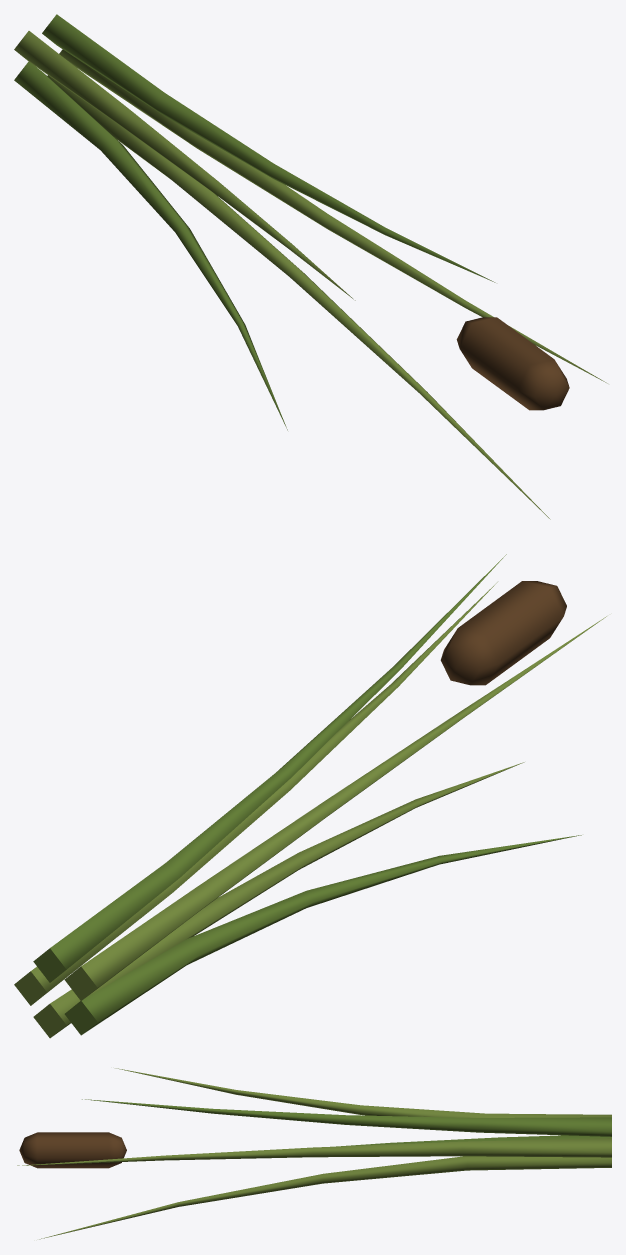
File: reed.glb
3 renders of one model, top to bottom at view 1: azimuth 30°, elevation 25°; view 2: azimuth 150°, elevation 25°; view 3: azimuth 270°, elevation 25°, orthographic. The views are drawn at different scales.
Visible parts, largest first — view 1: ReedMesh; view 2: ReedMesh; view 3: ReedMesh.
Part boxes in pixels (x1,y1,x2,y2): ReedMesh: [14, 14, 607, 519]; ReedMesh: [14, 554, 606, 1038]; ReedMesh: [17, 1068, 611, 1239].
Size of the model in its own units: 0.2413 by 0.2506 by 0.9989.
